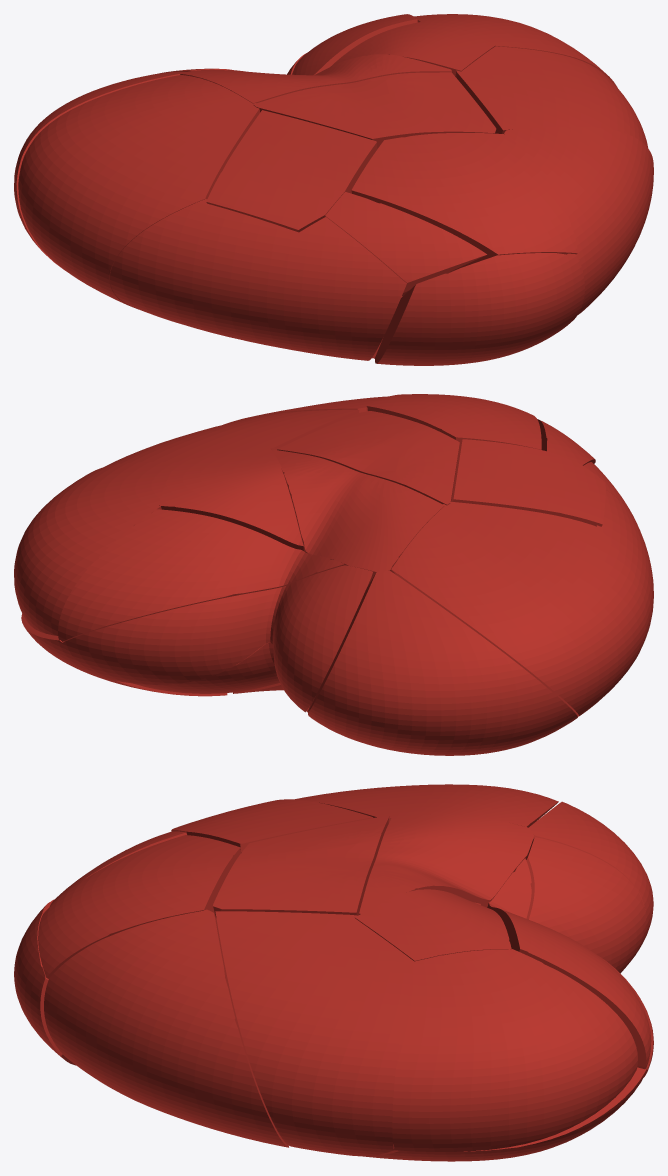
File: HeartPanel.fbx
3 views of the same model, one above another, from view 1: azimuth 30°, elevation 25°; view 2: azimuth 150°, elevation 25°; view 3: azimuth 270°, elevation 25° (orthographic). The views are drawn at different scales.
Parts seen in each view (by area): view 1: HeartShatter_cell.015, HeartShatter_cell.007, HeartShatter_cell.019, HeartShatter_cell.011, HeartShatter_cell.010, HeartShatter_cell.018, HeartShatter_cell.013, HeartShatter_cell, HeartShatter_cell.017, HeartShatter_cell.005, HeartShatter_cell.012, HeartShatter_cell.004 (+3 smaller); view 2: HeartShatter_cell.015, HeartShatter_cell.002, HeartShatter_cell.008, HeartShatter_cell.016, HeartShatter_cell.001, HeartShatter_cell.012, HeartShatter_cell.013, HeartShatter_cell.017, HeartShatter_cell.004, HeartShatter_cell.007, HeartShatter_cell, HeartShatter_cell.019 (+4 smaller); view 3: HeartShatter_cell.001, HeartShatter_cell, HeartShatter_cell.010, HeartShatter_cell.007, HeartShatter_cell.017, HeartShatter_cell.012, HeartShatter_cell.008, HeartShatter_cell.016, HeartShatter_cell.004, HeartShatter_cell.015, HeartShatter_cell.013, HeartShatter_cell.002 (+3 smaller).
Boxes of the visible parts, x1,y1,x2,y2 form: HeartShatter_cell.015: (18,75,260,308); HeartShatter_cell.007: (351,133,577,296); HeartShatter_cell.019: (110,199,293,349); HeartShatter_cell.011: (374,253,584,365); HeartShatter_cell.010: (504,126,653,314); HeartShatter_cell.018: (275,217,406,360); HeartShatter_cell.013: (206,110,377,232); HeartShatter_cell: (455,46,647,147); HeartShatter_cell.017: (253,72,496,148); HeartShatter_cell.005: (325,192,486,292); HeartShatter_cell.012: (180,54,451,103); HeartShatter_cell.004: (330,21,495,76); HeartShatter_cell.015: (391,501,646,716); HeartShatter_cell.002: (308,570,577,755); HeartShatter_cell.008: (61,565,372,712); HeartShatter_cell.016: (58,509,344,641); HeartShatter_cell.001: (14,462,176,635); HeartShatter_cell.012: (272,450,444,587); HeartShatter_cell.013: (453,439,605,526); HeartShatter_cell.017: (277,411,459,505); HeartShatter_cell.004: (159,446,303,550); HeartShatter_cell.007: (366,394,541,501); HeartShatter_cell: (104,409,359,466); HeartShatter_cell.019: (596,490,653,646); HeartShatter_cell.001: (392,949,637,1151); HeartShatter_cell: (215,911,414,1156); HeartShatter_cell.010: (44,909,288,1147); HeartShatter_cell.007: (38,835,240,978); HeartShatter_cell.017: (213,816,389,917); HeartShatter_cell.012: (359,814,533,914); HeartShatter_cell.008: (525,837,653,1076); HeartShatter_cell.016: (487,858,651,1069); HeartShatter_cell.004: (355,889,511,961); HeartShatter_cell.015: (294,784,558,827); HeartShatter_cell.013: (171,799,373,852); HeartShatter_cell.002: (528,801,653,962).
Bounding box in the file's own units: 248 × 93.88 × 231.
